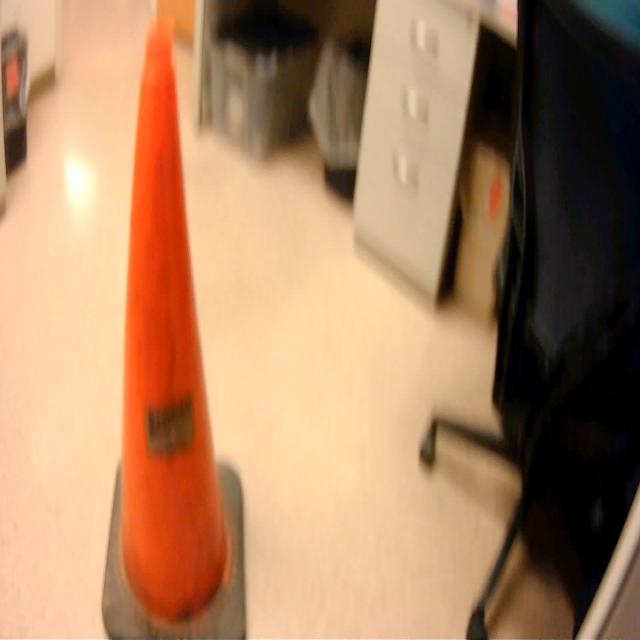traffic cone: (98, 3, 254, 640)
